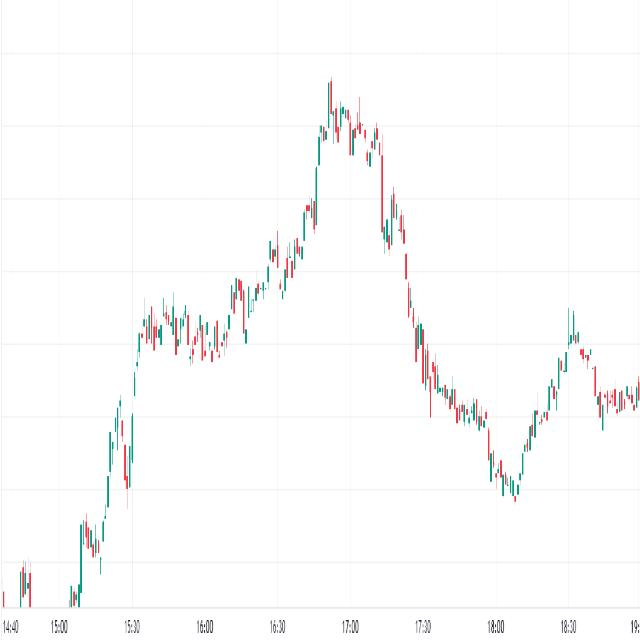Channel-down: (314, 71, 397, 183)
Channel-up: (499, 285, 590, 534)
Falling-Wedge: (221, 185, 324, 377)
rectangle: (132, 295, 235, 379)
